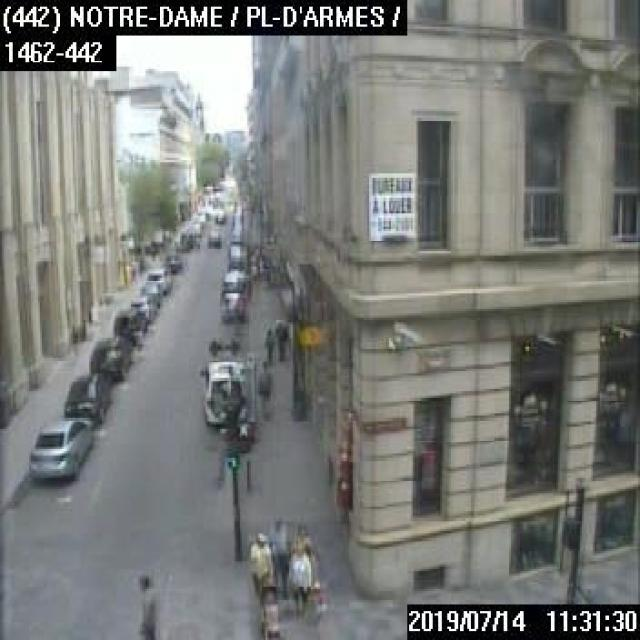pedestrian: (247, 533, 281, 637), (285, 533, 318, 638), (136, 573, 158, 638), (254, 358, 272, 420), (263, 319, 277, 362), (276, 319, 290, 361)
vehicle: (24, 415, 92, 482), (200, 334, 245, 422), (62, 372, 109, 426), (88, 335, 131, 382), (112, 306, 148, 344), (221, 266, 249, 294), (218, 291, 246, 318), (130, 294, 156, 322), (143, 266, 171, 290), (225, 241, 249, 268), (141, 282, 166, 305), (164, 251, 181, 270), (205, 230, 220, 247), (213, 209, 225, 224)
